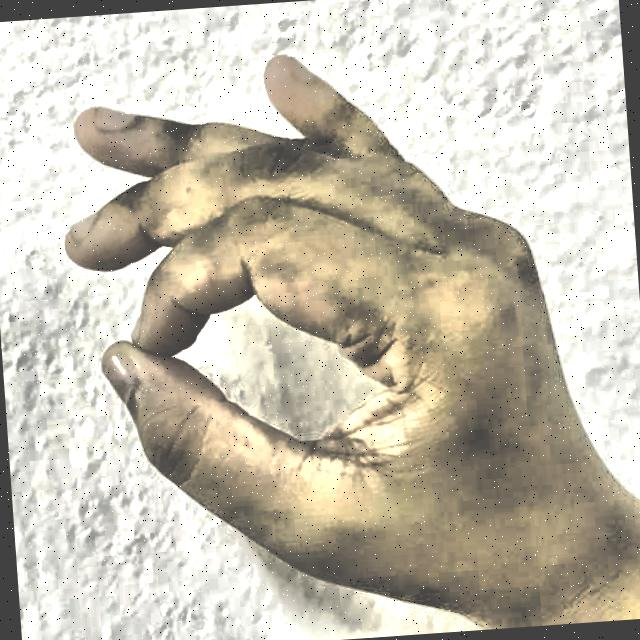Yo: (35, 12, 603, 640)
